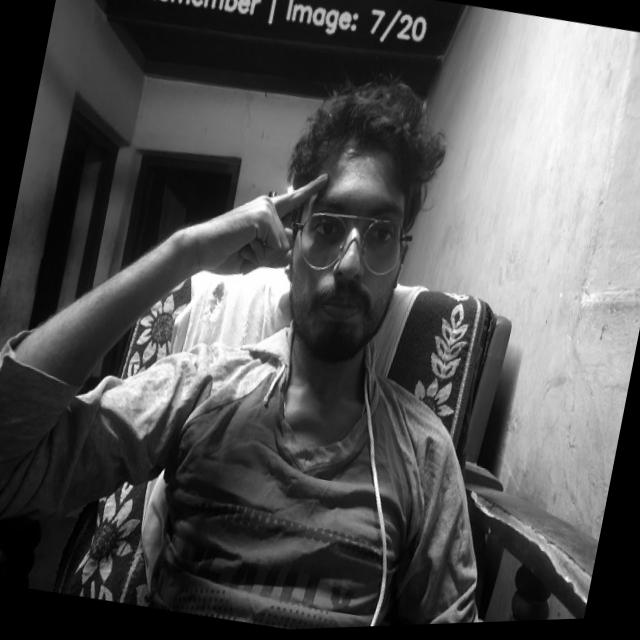Remember: (177, 153, 336, 314)
